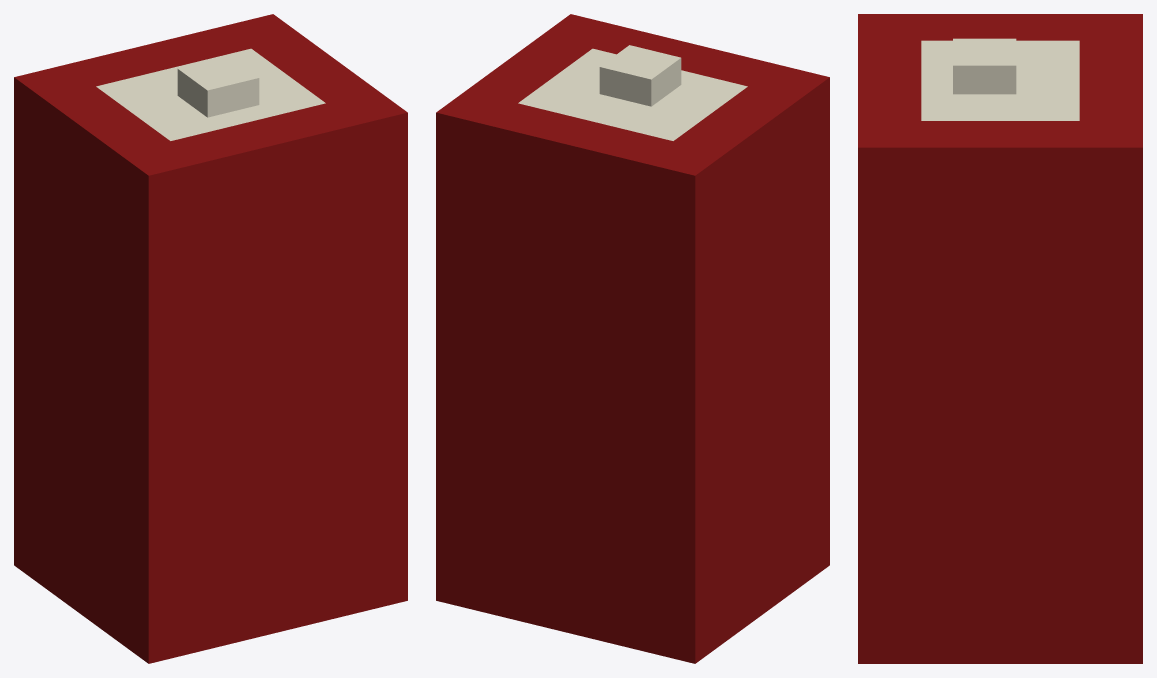
The model's file is character.vox-8-player-1-body.obj.
3 views of the same model, side by side, from view 1: azimuth 30°, elevation 25°; view 2: azimuth 150°, elevation 25°; view 3: azimuth 270°, elevation 25° (orthographic). The views are drawn at different scales.
Parts seen in each view (by area): view 1: player-1-body; view 2: player-1-body; view 3: player-1-body.
Boxes of the visible parts, left/top/right/bottom form: player-1-body: left=14, top=14, right=407, bottom=663; player-1-body: left=436, top=14, right=829, bottom=663; player-1-body: left=858, top=14, right=1142, bottom=663.
Bounding box in the file's own units: 1 × 1.9 × 0.9.
Materials: 1 (1 with a texture image).
